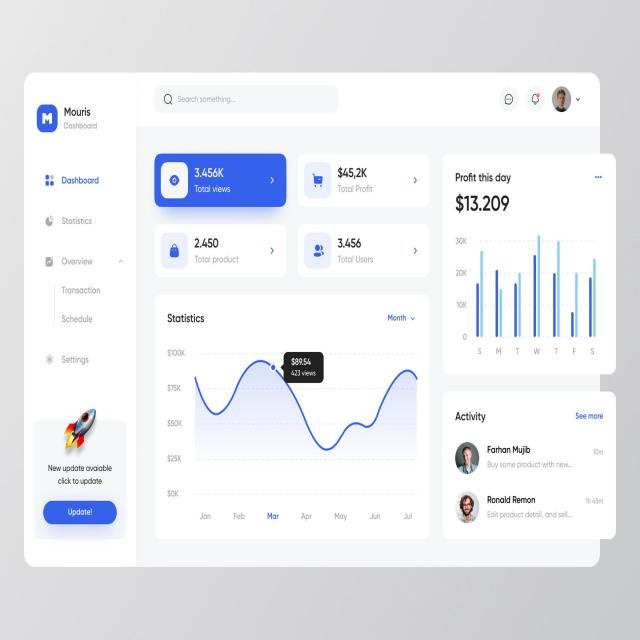button: (297, 153, 430, 209), (154, 153, 287, 208), (155, 224, 287, 278), (298, 224, 430, 278), (42, 500, 117, 524)
input: (156, 84, 338, 114)
